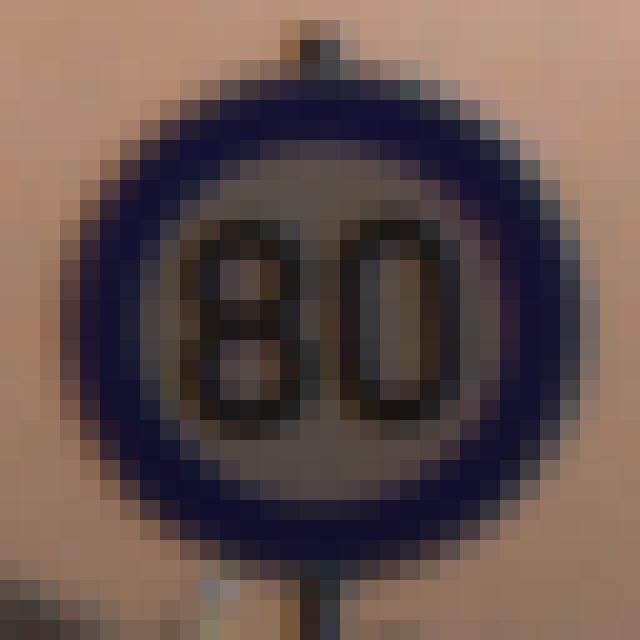SPEED-LIMIT-80: (51, 71, 574, 548)
